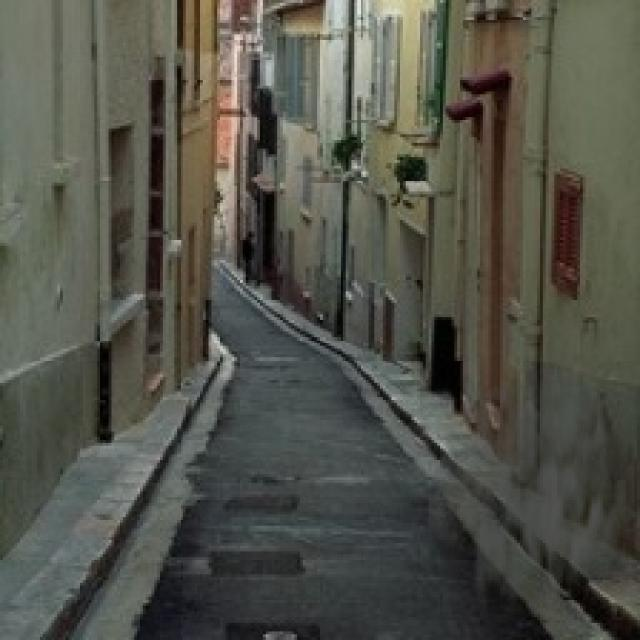smoke: (429, 348, 637, 623)
